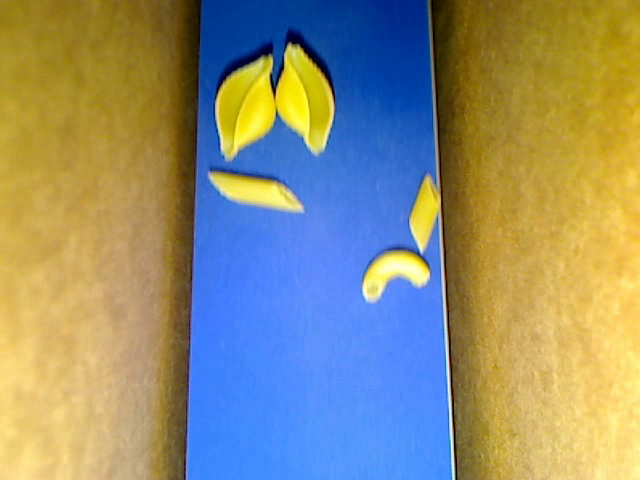elbow: (360, 250, 429, 302)
penne: (207, 169, 305, 212), (409, 171, 441, 254)
shell: (274, 42, 334, 155), (214, 55, 276, 160)
